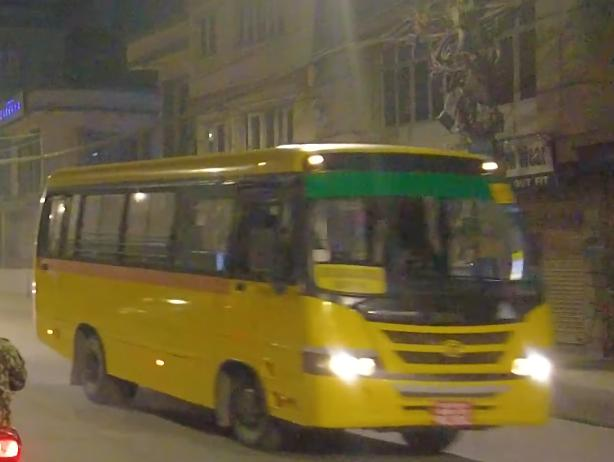school_bus: (28, 135, 554, 453)
